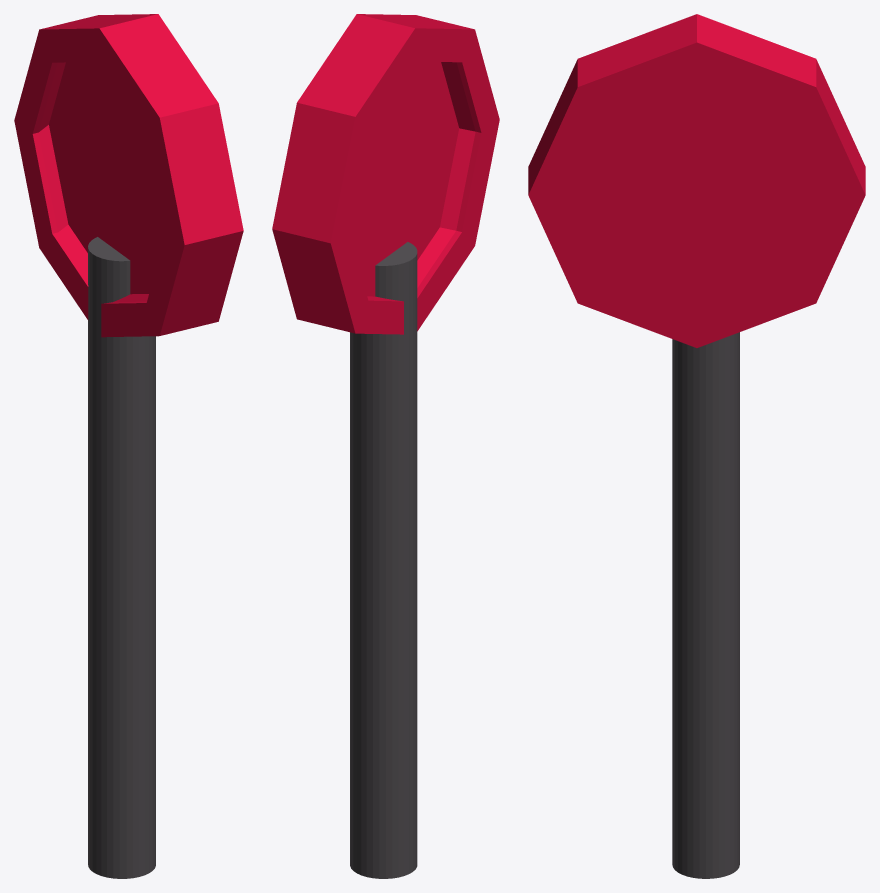
File: StopSign.fbx
3 renders of one model, left to right at view 1: azimuth 30°, elevation 25°; view 2: azimuth 150°, elevation 25°; view 3: azimuth 270°, elevation 25°, orthographic.
Parts seen in each view (by area): view 1: Cylinder.001, Cylinder; view 2: Cylinder.001, Cylinder; view 3: Cylinder.001, Cylinder.
Boxes of the visible parts, bbox=[...] form: Cylinder.001: bbox=[14, 14, 243, 337]; Cylinder: bbox=[88, 237, 155, 878]; Cylinder.001: bbox=[272, 14, 499, 334]; Cylinder: bbox=[350, 242, 417, 878]; Cylinder.001: bbox=[528, 14, 865, 347]; Cylinder: bbox=[672, 332, 739, 878].
Bounding box in the file's own units: 10.39 × 137 × 50.
